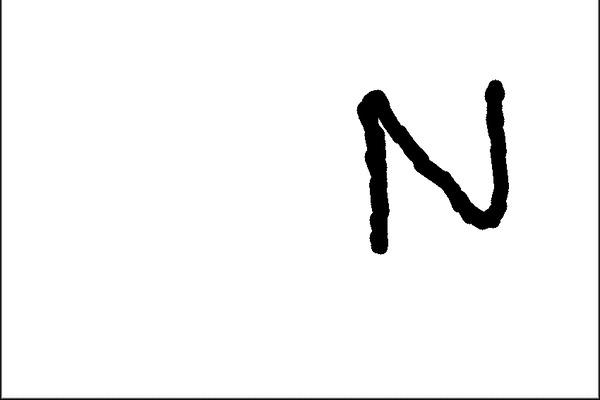N: (349, 72, 512, 257)
